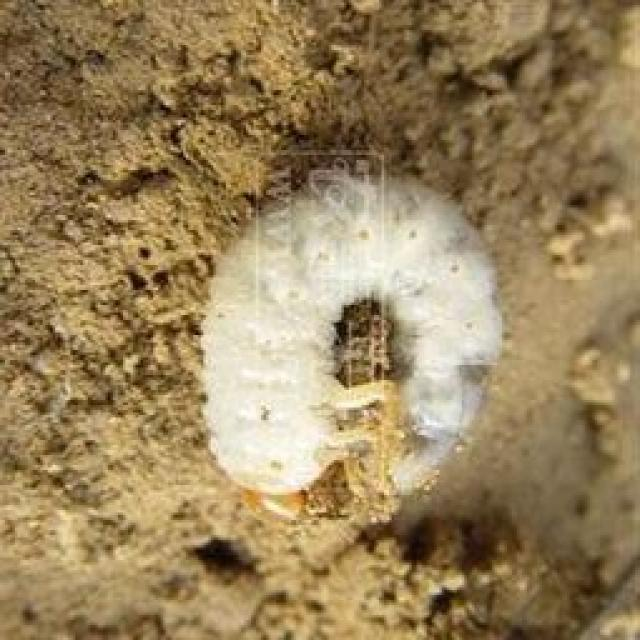grub: (197, 162, 503, 520)
